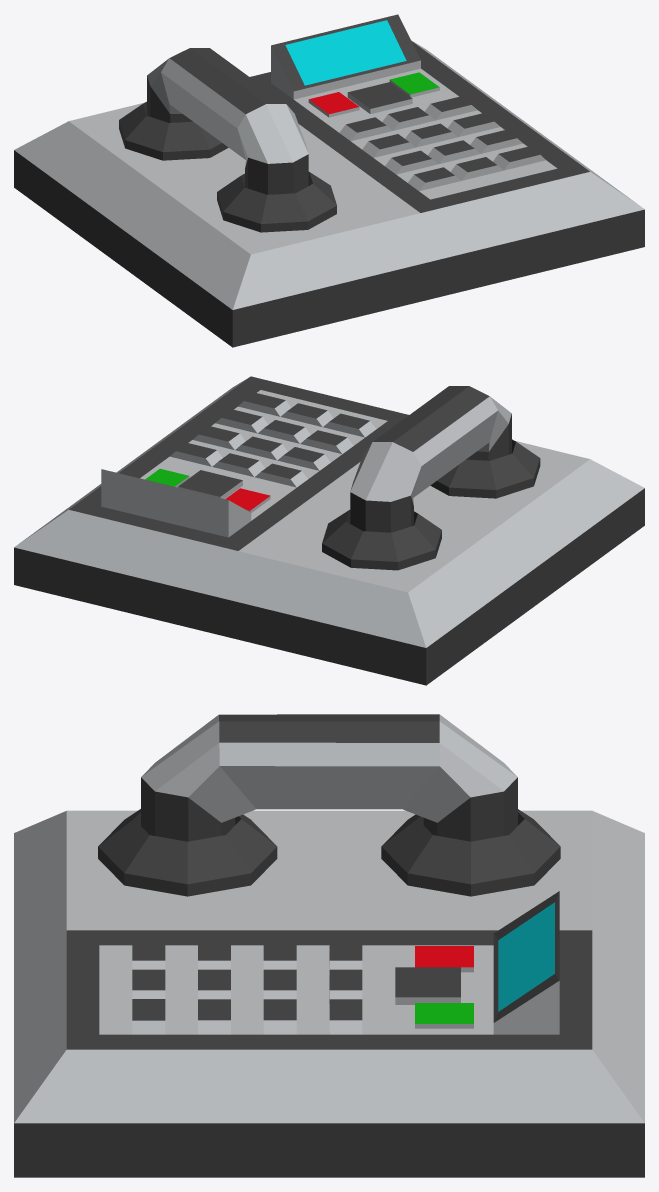
The model's file is Desk Telephone.fbx.
3 renders of one model, top to bottom at view 1: azimuth 30°, elevation 25°; view 2: azimuth 150°, elevation 25°; view 3: azimuth 270°, elevation 25°, orthographic. The views are drawn at different scales.
Parts seen in each view (by area): view 1: Dock, Phone; view 2: Dock, Phone; view 3: Dock, Phone.
Part boxes in pixels (x1,y1,x2,y2): Dock: (14, 14, 644, 347); Phone: (147, 48, 308, 194); Dock: (14, 376, 644, 685); Phone: (350, 386, 511, 532); Dock: (14, 809, 644, 1177); Phone: (141, 714, 517, 841).
Size of the model in its own units: 805 by 310 by 739.
